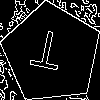T: (27, 28, 66, 79)
